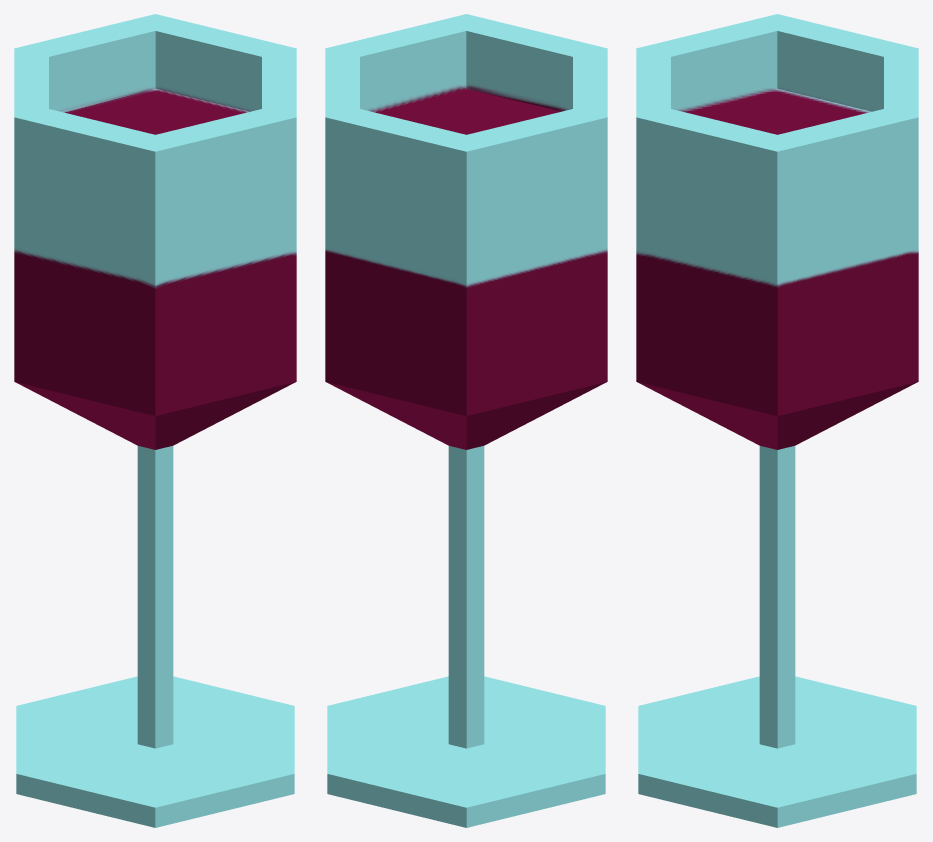
The model's file is wineGlass1_PLY.fbx.
The picture shows the model from 3 angles, left to right: view 1: azimuth 30°, elevation 25°; view 2: azimuth 150°, elevation 25°; view 3: azimuth 270°, elevation 25°; orthographic projection.
Parts seen in each view (by area): view 1: wineGlass1_PLY; view 2: wineGlass1_PLY; view 3: wineGlass1_PLY.
Boxes of the visible parts, bbox=[...] form: wineGlass1_PLY: bbox=[14, 14, 296, 827]; wineGlass1_PLY: bbox=[325, 14, 607, 827]; wineGlass1_PLY: bbox=[636, 14, 918, 827].
Bounding box in the file's own units: 0.4215 × 0.9659 × 0.365.
